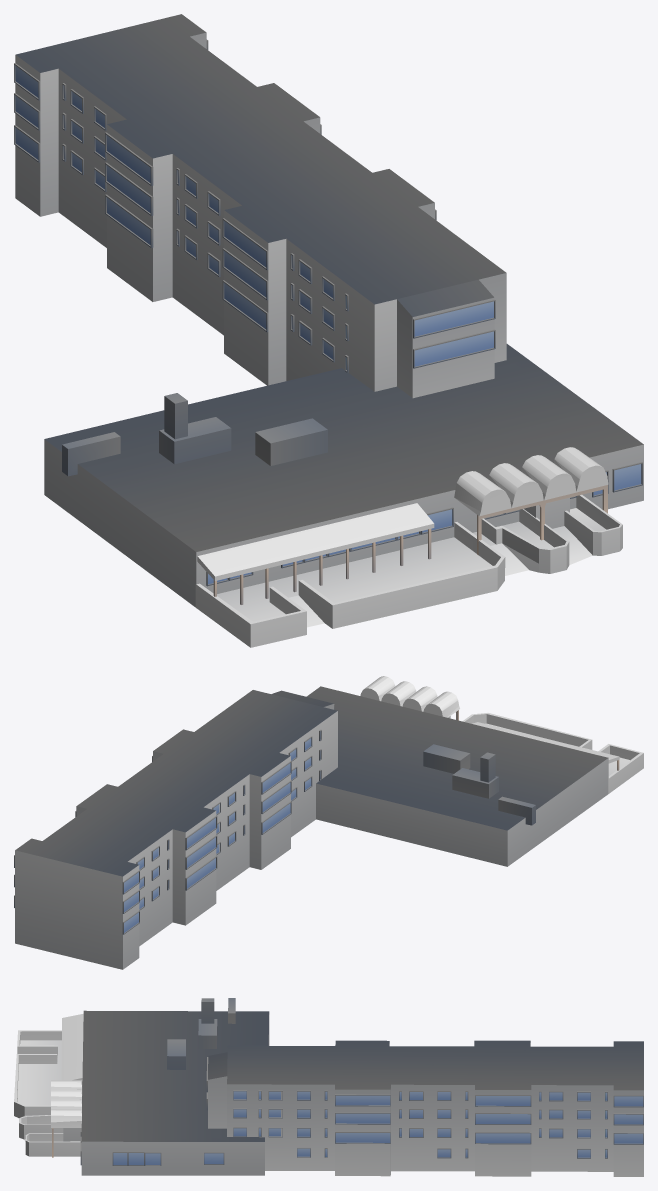
Rendered from ravintola_oklahoma.fbx.
3 views of the same model, one above another, from view 1: azimuth 30°, elevation 25°; view 2: azimuth 150°, elevation 25°; view 3: azimuth 270°, elevation 25° (orthographic). The views are drawn at different scales.
Visible parts, largest first — view 1: ravintola_oklahoma4; view 2: ravintola_oklahoma4; view 3: ravintola_oklahoma4.
Part boxes in pixels (box(x1,y1,x2,y2)): ravintola_oklahoma4: box(14, 14, 643, 647); ravintola_oklahoma4: box(14, 676, 643, 969); ravintola_oklahoma4: box(14, 998, 643, 1176).
Bounding box in the file's own units: 110 × 32.77 × 216.
